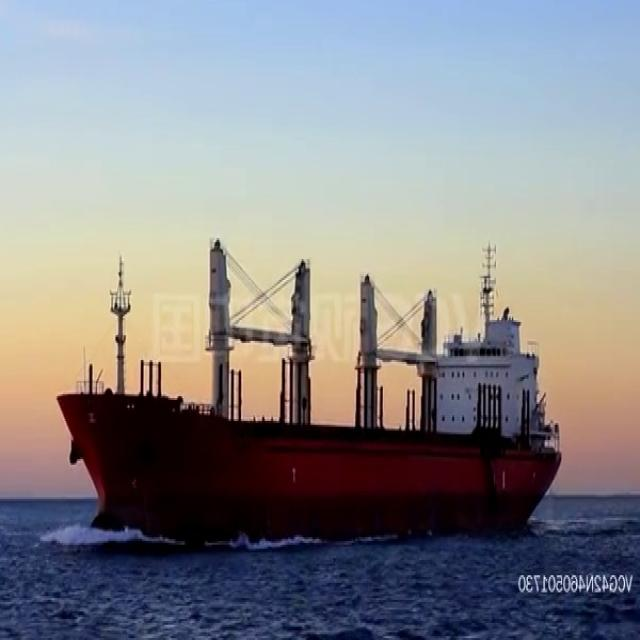cargoship: (62, 238, 563, 540)
